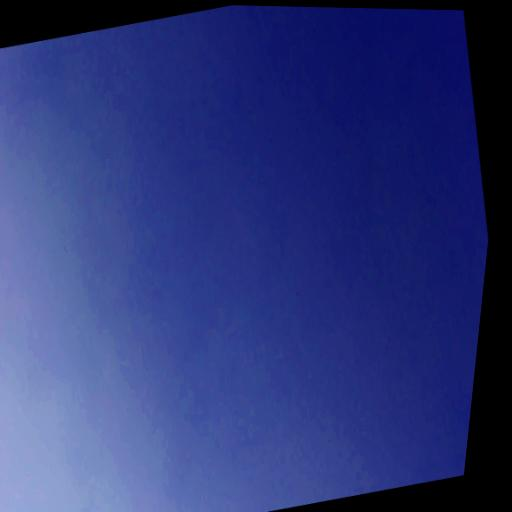drones: (295, 290, 300, 297)
